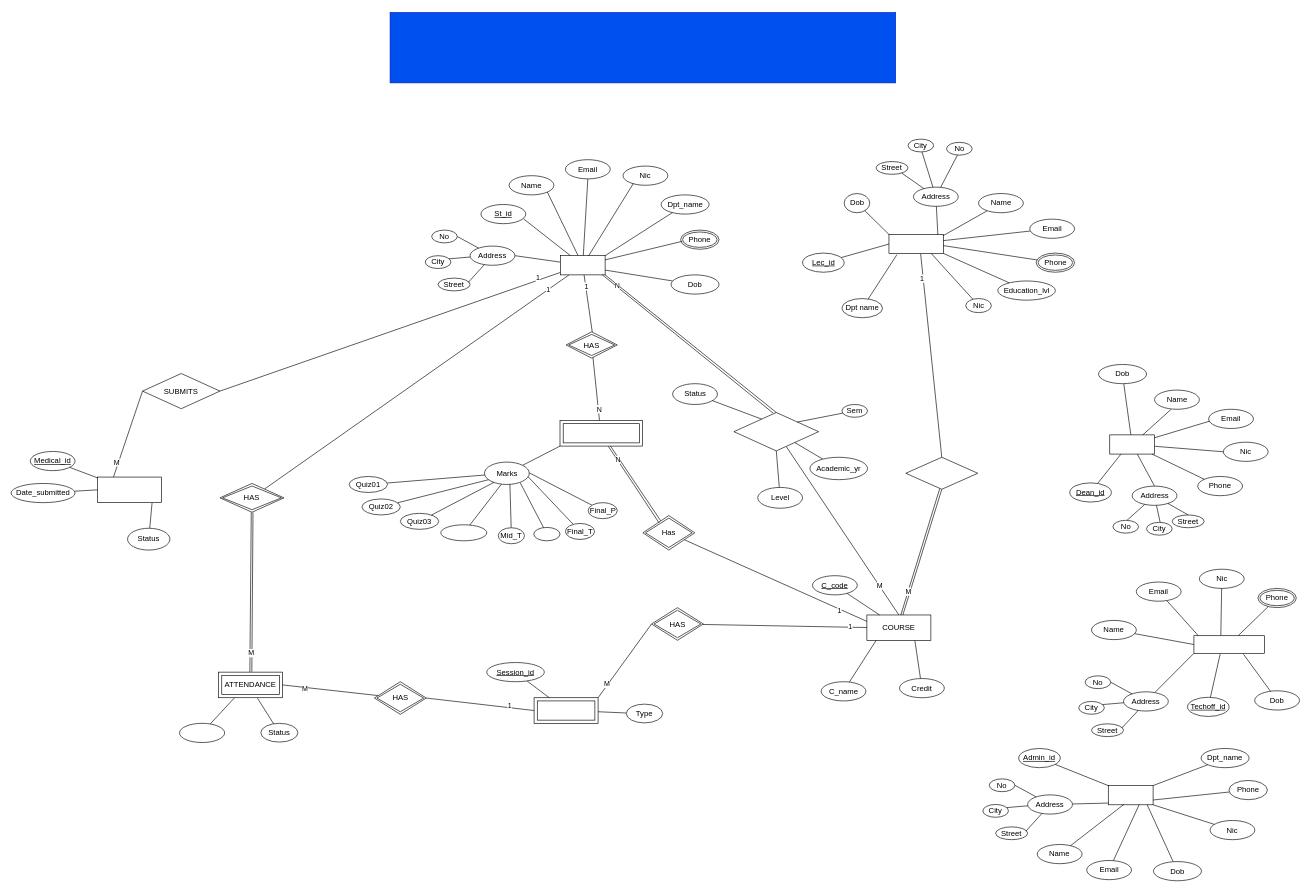
Some shapes in this 1311 by 892 pixel diagram are drawn without their labels. Here are the shapes that lost their labels. From the top down, the box of each, then its label:
(389, 12, 896, 83): ER Diagram
(888, 234, 943, 254): LECTURER
(560, 255, 605, 275): STUDENT
(559, 420, 643, 446): MARK
(733, 412, 819, 451): ENROLLS_IN
(1109, 434, 1155, 454): DEAN
(97, 476, 161, 503): MEDICAL
(905, 457, 978, 489): TEACHES
(440, 524, 487, 541): Assignment
(533, 527, 560, 541): Mid_P
(1193, 635, 1264, 653): TECH_OFFICER
(533, 697, 598, 723): SESSION
(179, 723, 225, 743): Week_no
(1108, 785, 1153, 805): ADMIN
